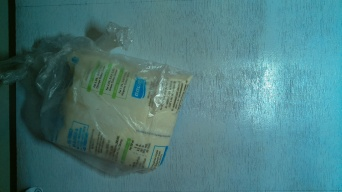m: (38, 36, 202, 183)
